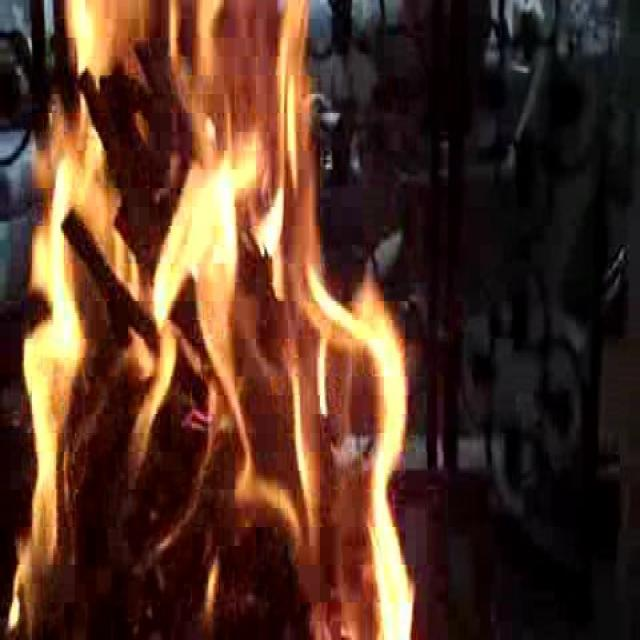Fire: (36, 9, 412, 620)
